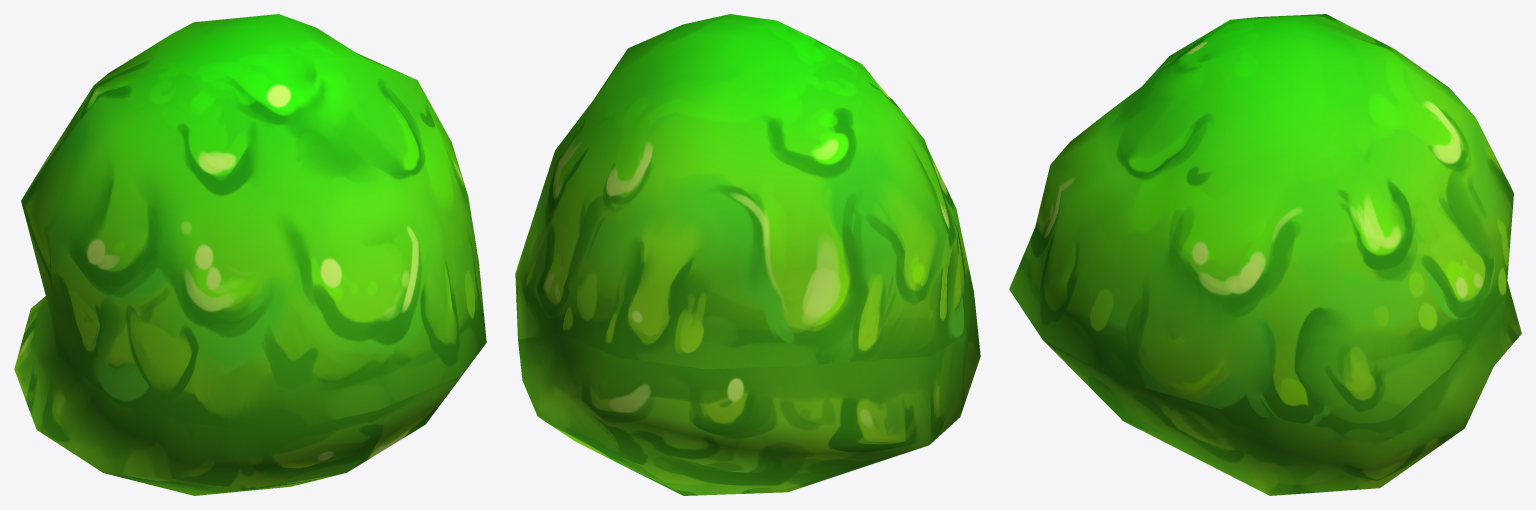
Rendered from Ammunition.FBX.
3 views of the same model, side by side, from view 1: azimuth 30°, elevation 25°; view 2: azimuth 150°, elevation 25°; view 3: azimuth 270°, elevation 25° (orthographic).
Visible parts, largest first — view 1: Ammunition; view 2: Ammunition; view 3: Ammunition.
Part boxes in pixels (box(x1,y1,x2,y2)): Ammunition: box(14, 14, 486, 495); Ammunition: box(515, 14, 980, 495); Ammunition: box(1009, 14, 1521, 495).
Bounding box in the file's own units: 6.47 × 6.93 × 7.2.
